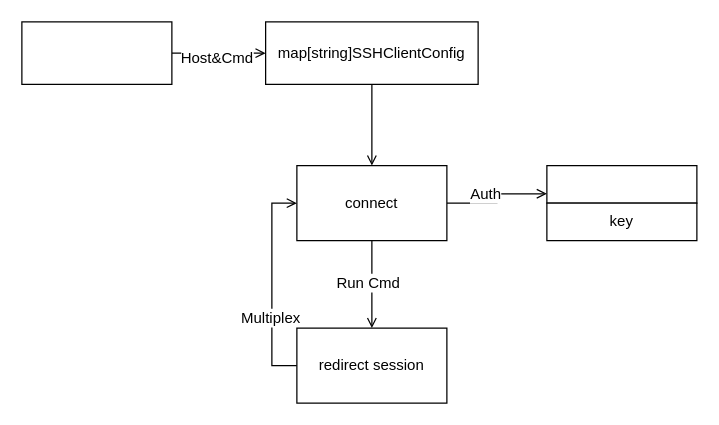
This 719x425 diagram has some shape labels left out. Each missing label, with the centre of its shape:
"config" goes at [96,52].
"password" goes at [621,183].
